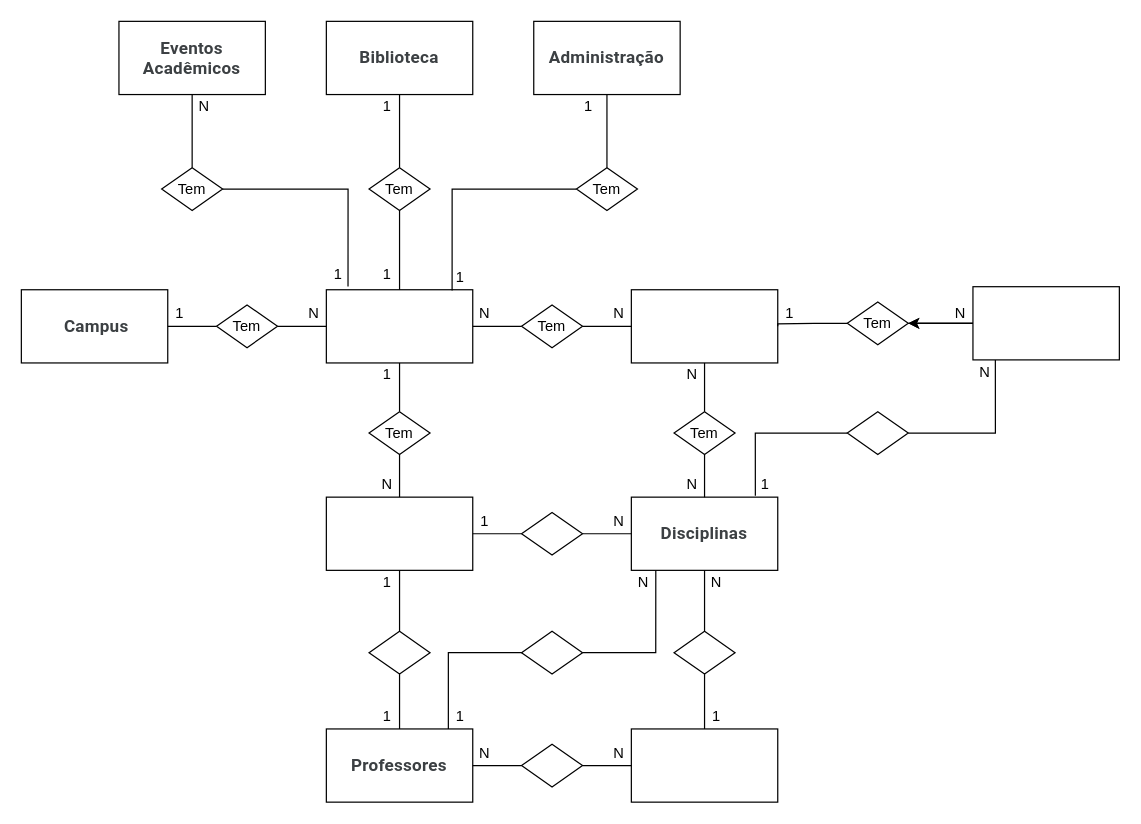
Image size: 1141x824. Some labels were removed from this diagram. The shapes that lost their labels are listed below. From the top down, each one's centre as x and y in pixels, then its label:
At point (399, 326): "Faculdades".
At point (704, 326): "Cursos".
At point (1045, 322): "Turmas".
At point (399, 533): "Departamentos".
At point (551, 652): "Leciona".
At point (704, 765): "Alunos".
